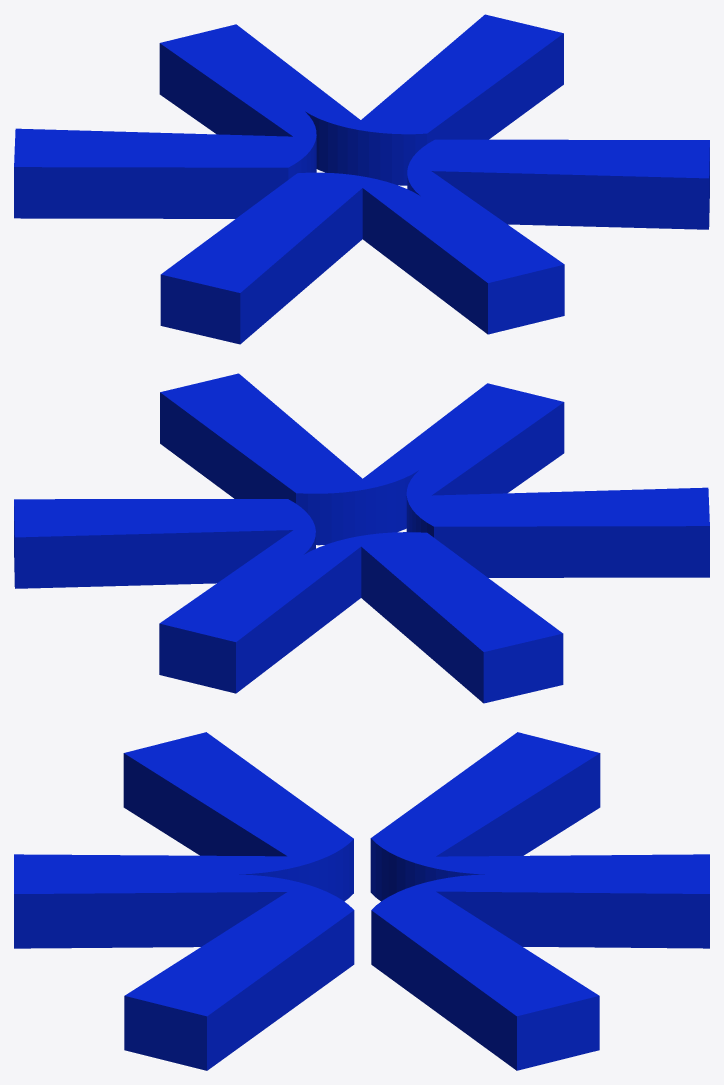
Rendered from Winspire_latest.glb.
3 views of the same model, one above another, from view 1: azimuth 30°, elevation 25°; view 2: azimuth 150°, elevation 25°; view 3: azimuth 270°, elevation 25° (orthographic). The views are drawn at different scales.
Visible parts, largest first — view 1: Curve.003; view 2: Curve.003; view 3: Curve.003.
Part boxes in pixels (x1,y1,x2,y2): Curve.003: (14, 14, 709, 344); Curve.003: (14, 373, 709, 703); Curve.003: (14, 732, 709, 1070).
Size of the model in its own units: 5.98 by 0.5341 by 6.18.
